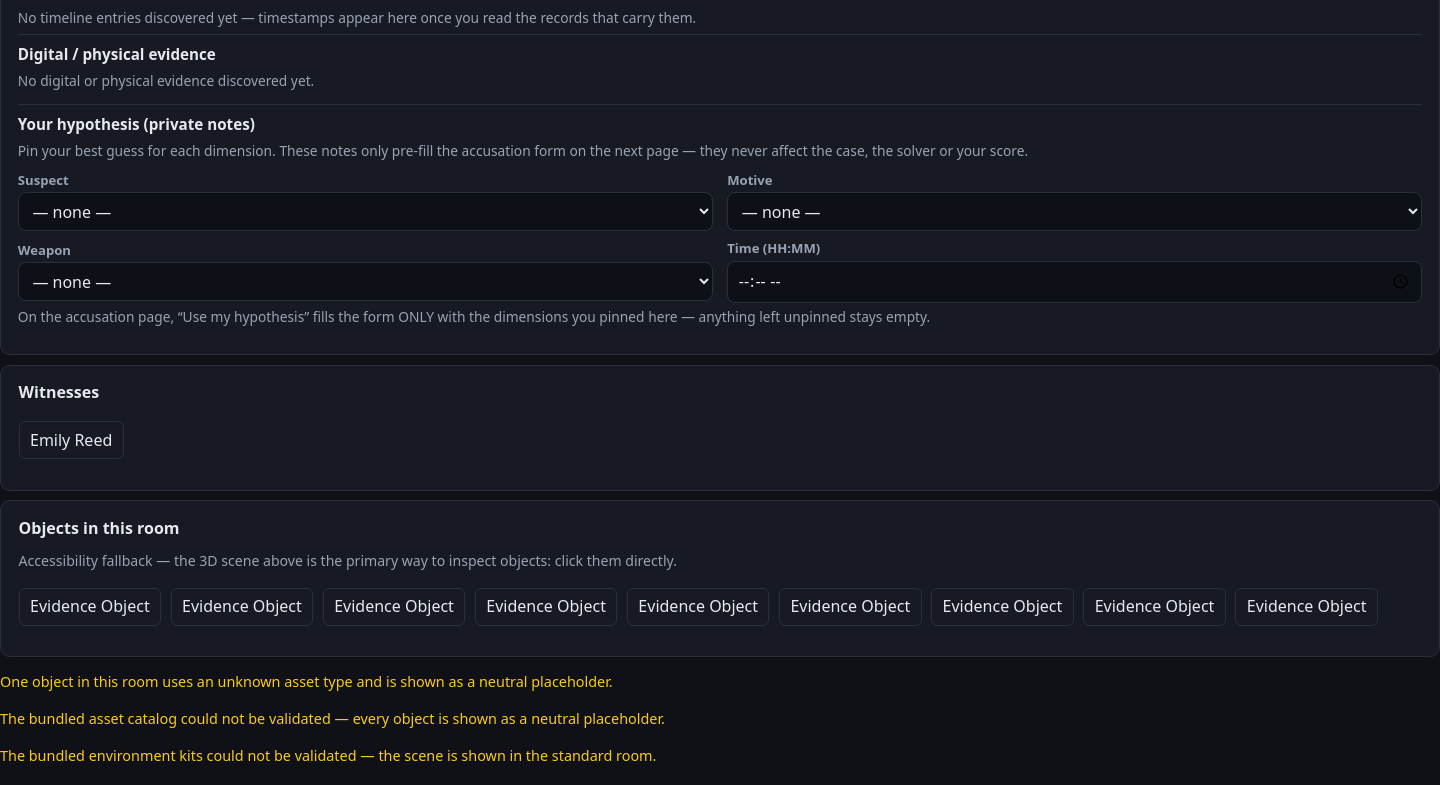
Test case: Phase 47 — a saved-case replay renders the victim profile › derives the victim block from the loaded file and renders/reveals the body record
(page scrolled)
Click the 9th button "Evidence Object" at (1307, 607), box [1235,588,1378,626]
(page scrolled)
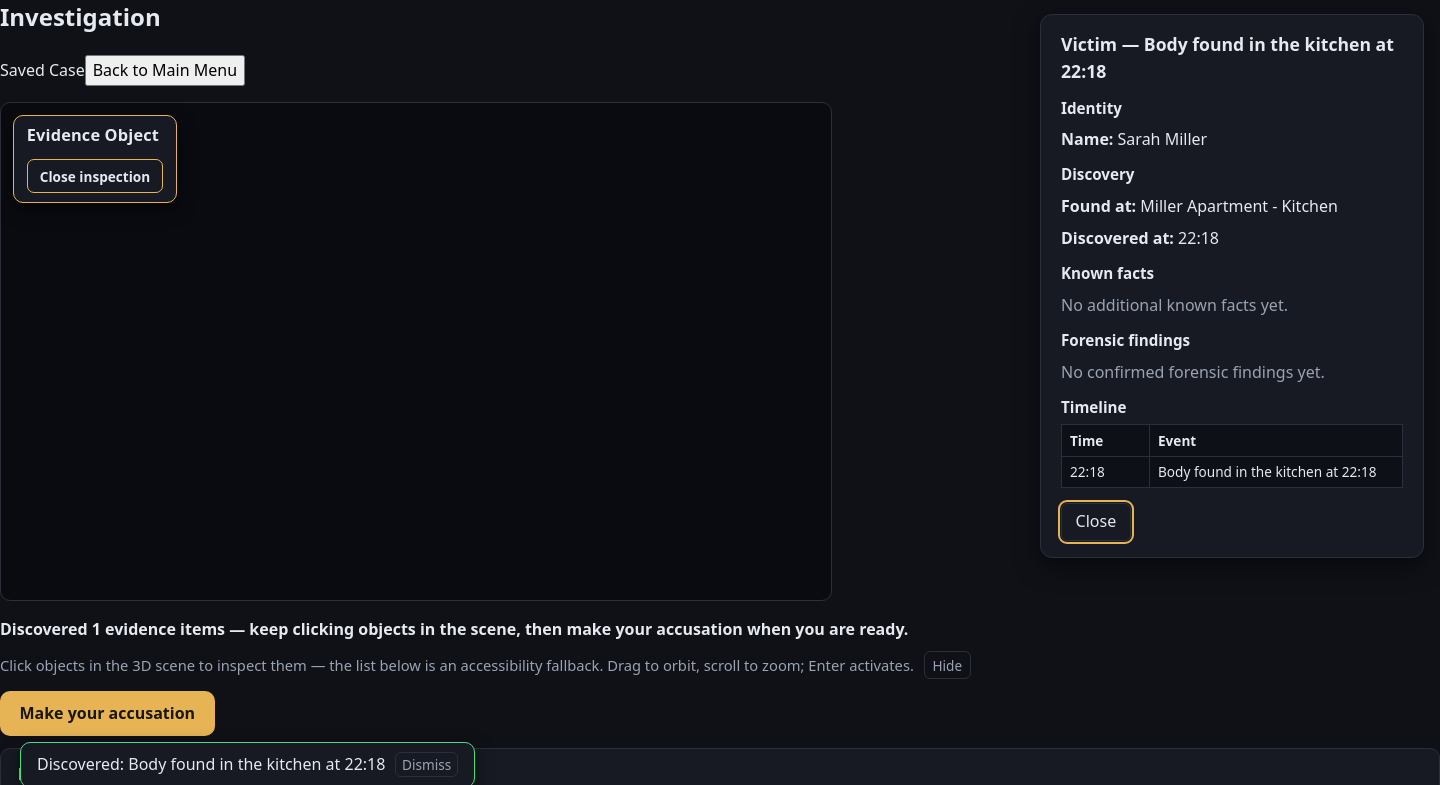
Result: the dialog with test id "victim-panel" is shown at [1040,14,1424,558]
Result: the element with test id "victim-identity-name" shows "Sarah Miller" at [1118,128,1207,150]
Result: the element with test id "victim-timeline" is shown at [1061,424,1403,488]
